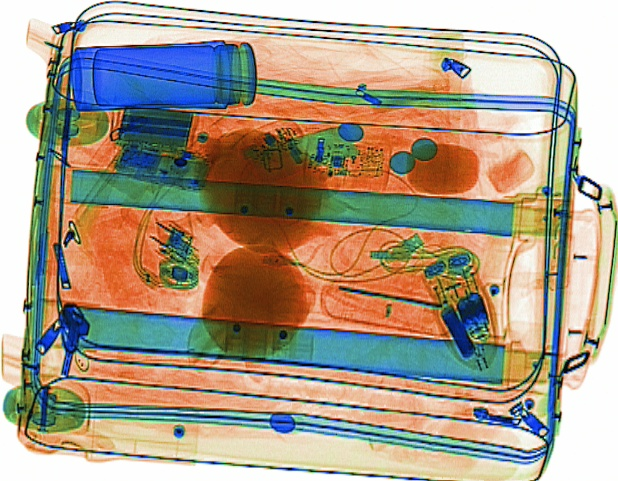powerbank: (106, 100, 199, 153)
